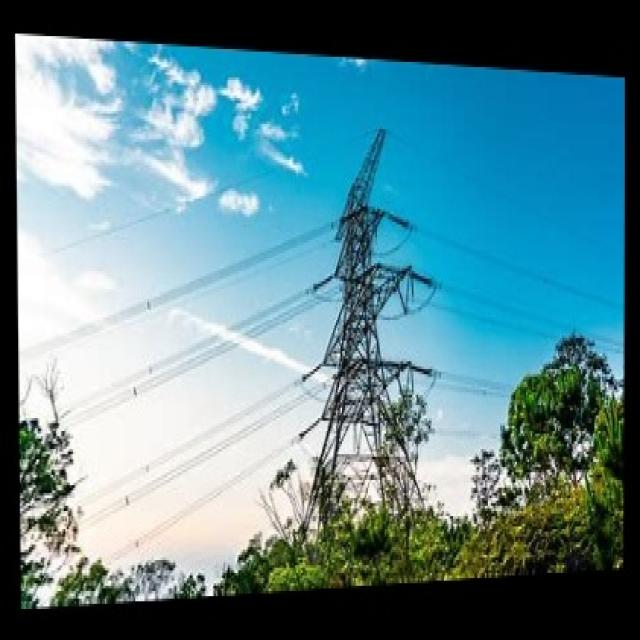utility poles: (496, 306, 610, 466), (353, 336, 440, 514)
